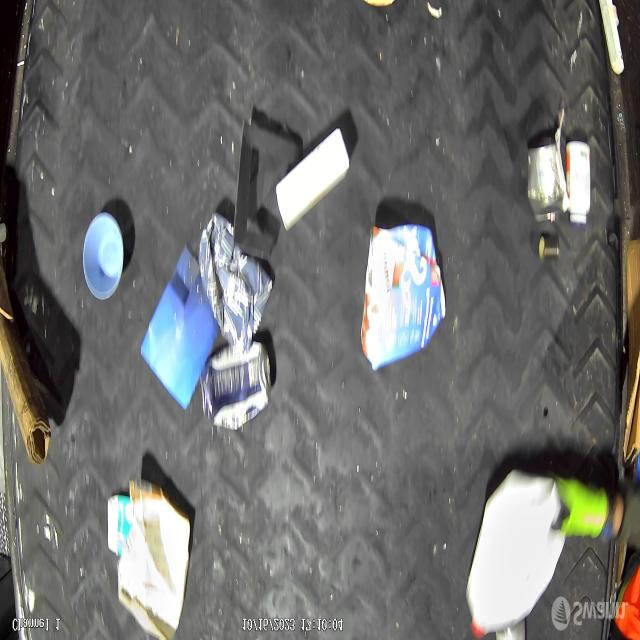can: (199, 346, 269, 434), (531, 138, 561, 227)
milk_jug: (461, 485, 563, 639)
